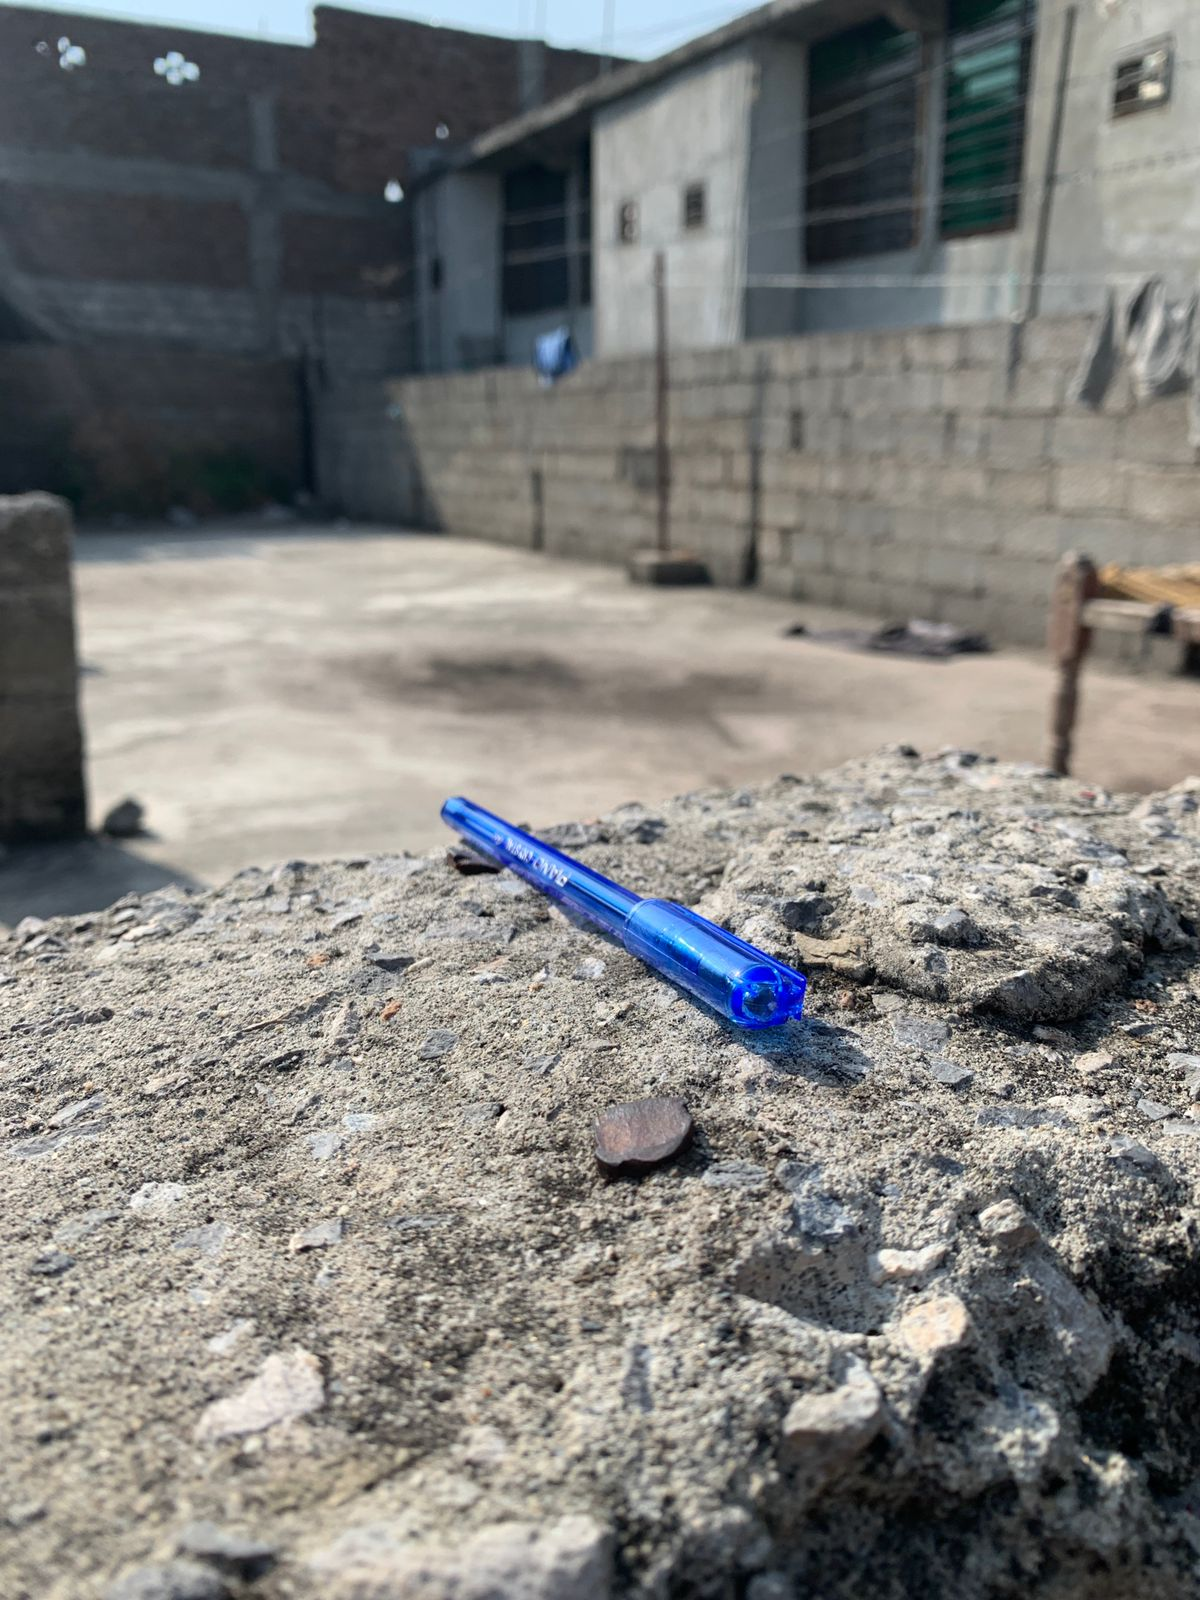pen: (350, 740, 895, 1102)
